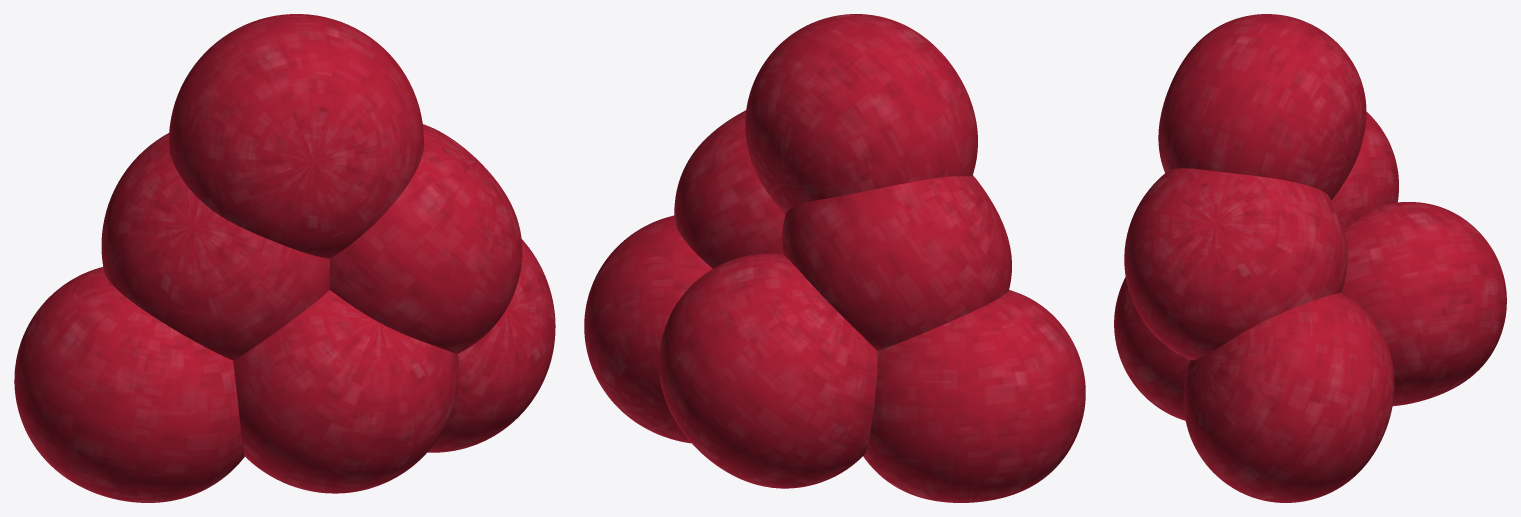
Rendered from cranberry.glb.
The picture shows the model from 3 angles, left to right: view 1: azimuth 30°, elevation 25°; view 2: azimuth 150°, elevation 25°; view 3: azimuth 270°, elevation 25°; orthographic projection. The views are drawn at different scales.
Bounding box in the file's own units: 0.1406 × 0.1233 × 0.1087.
1 material, 1 textured.
